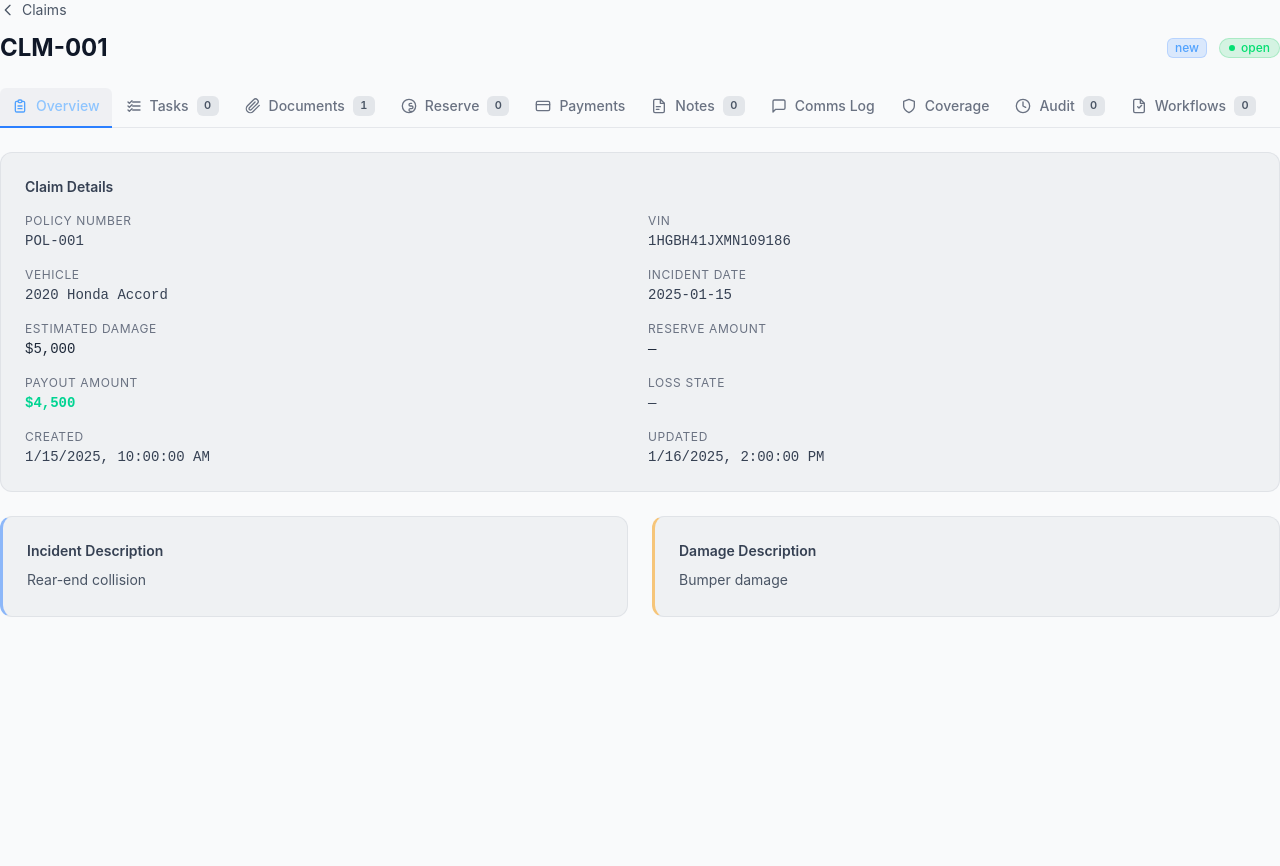
Test: ClaimDetail › shows documents in documents tab
What coordinates should you click on to do the following:
click the tab "Documents 1"
I would click on:
 (310, 108)
Its box is [232,88,387,128].
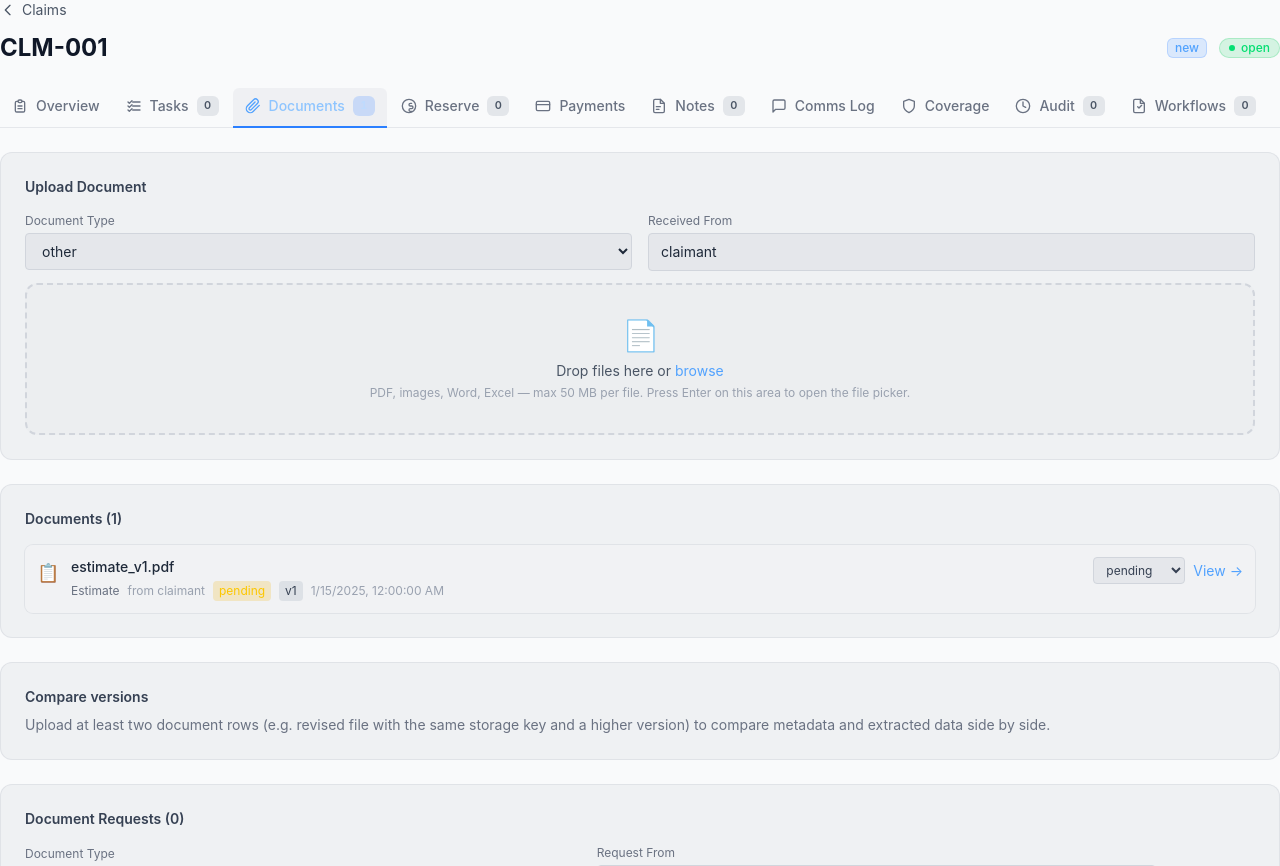
Result: the text "estimate_v1.pdf" is shown at [71,558,174,575]
Result: the text "from claimant" is shown at [127,583,205,599]
